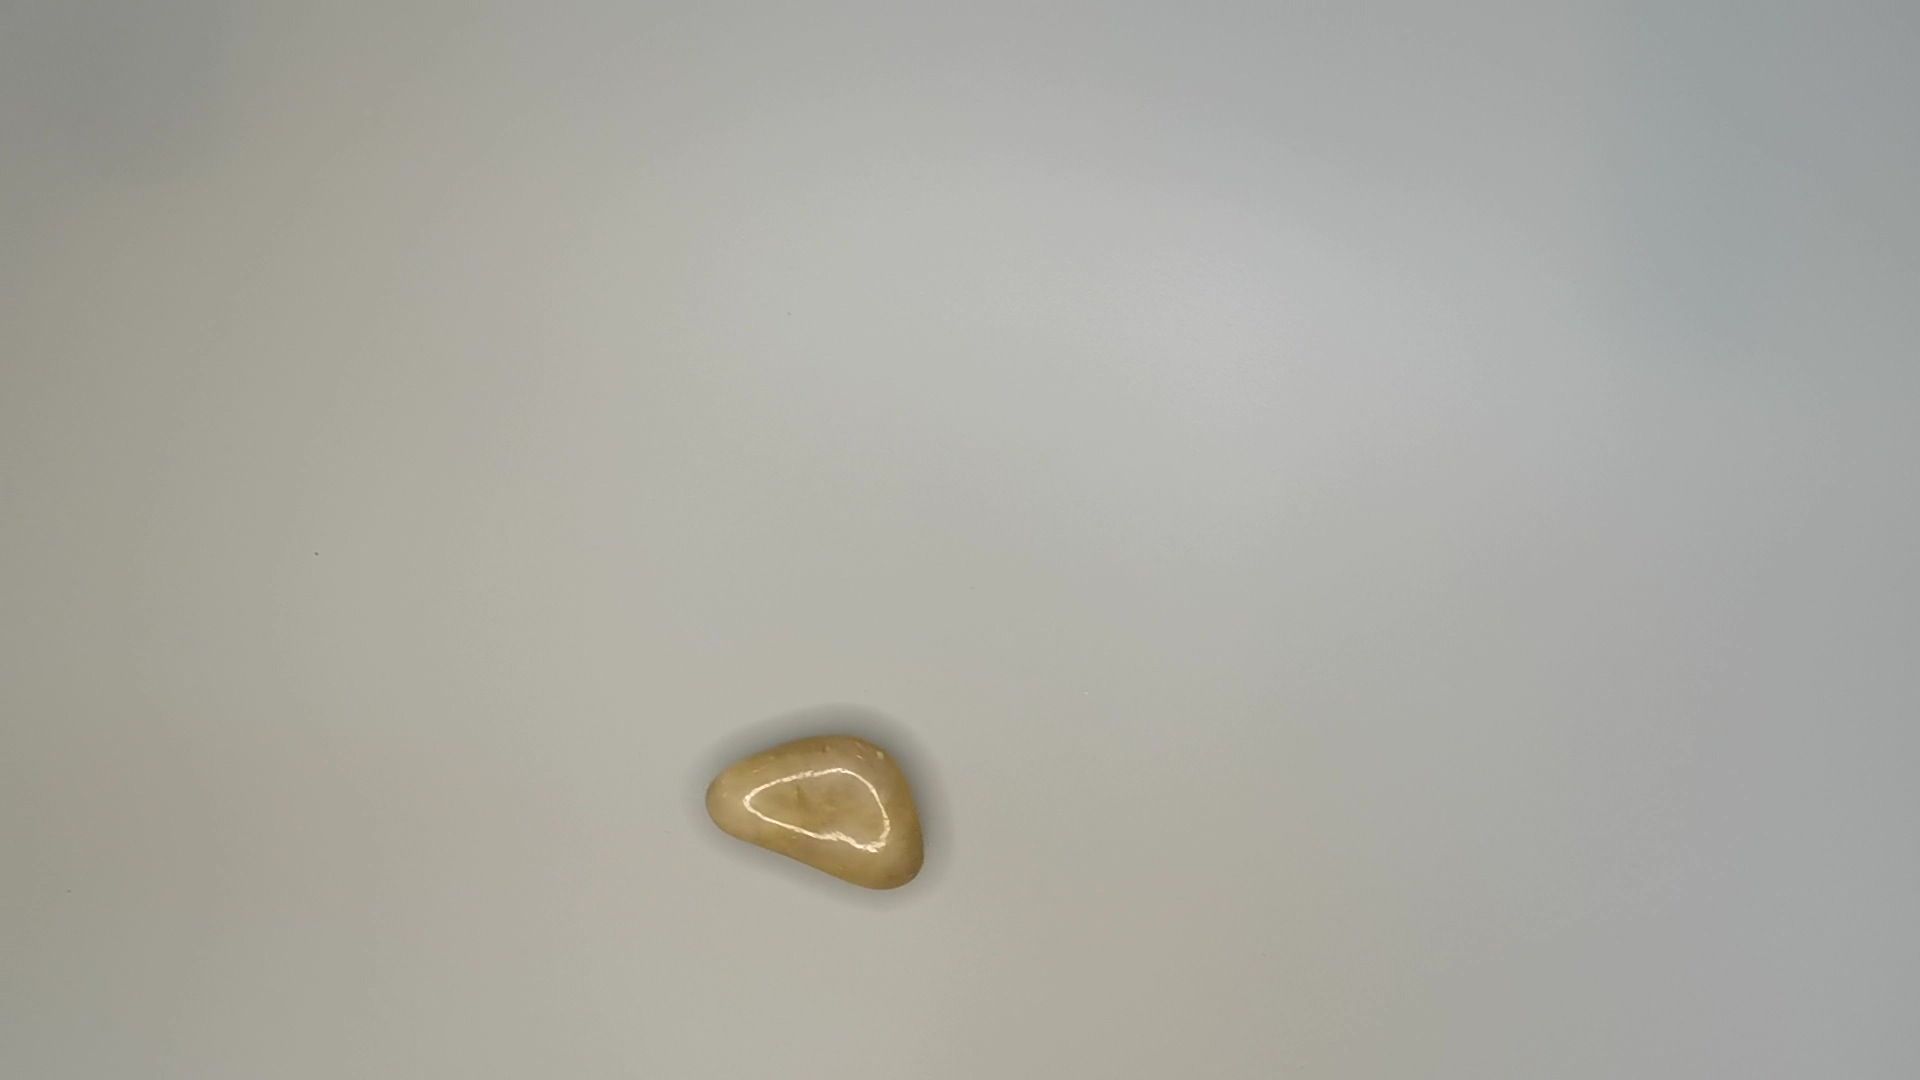ceramic: (692, 731, 938, 911)
